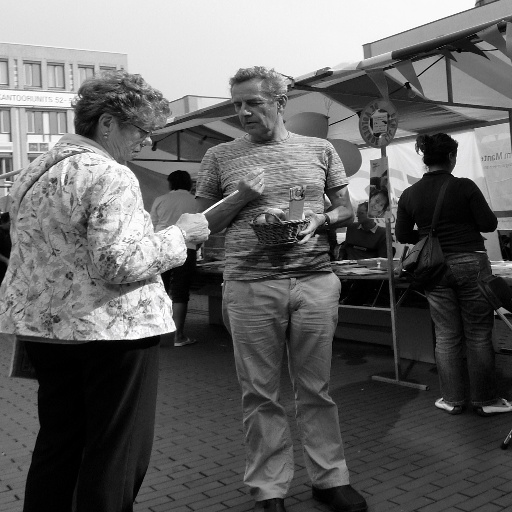hand: (175, 208, 210, 243), (234, 166, 266, 204), (299, 206, 321, 246)
